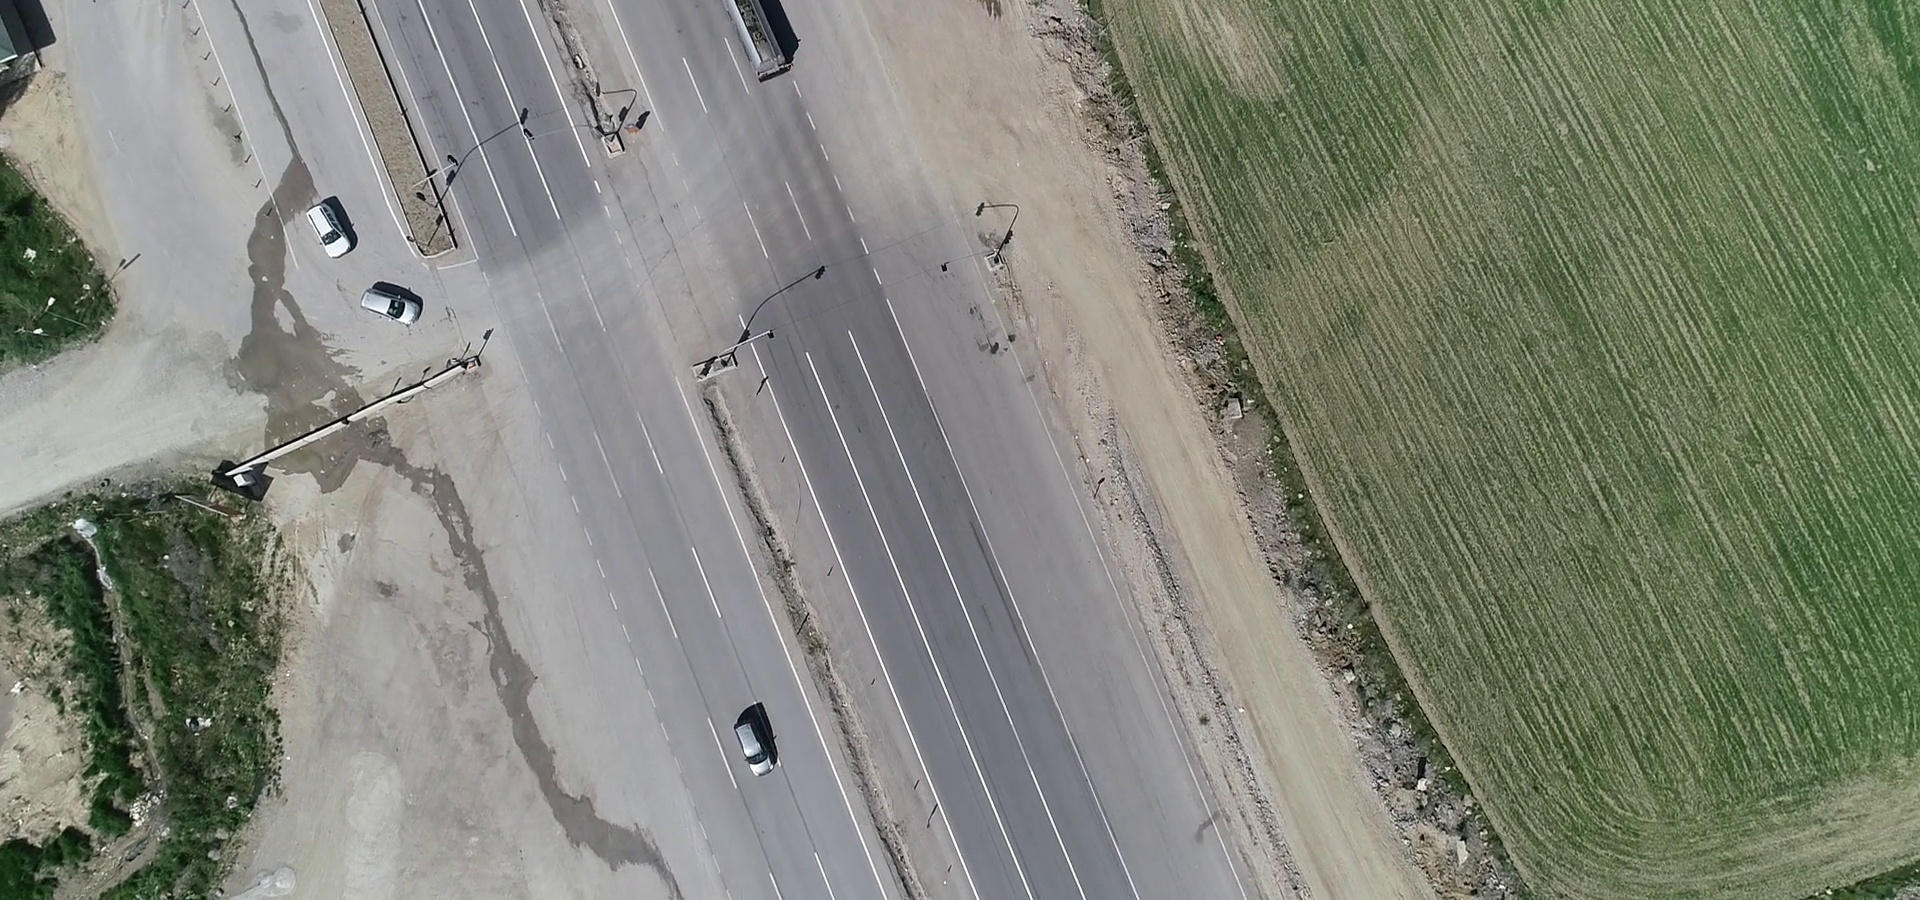arac: (294, 195, 358, 267), (353, 279, 426, 328), (729, 715, 782, 779)
